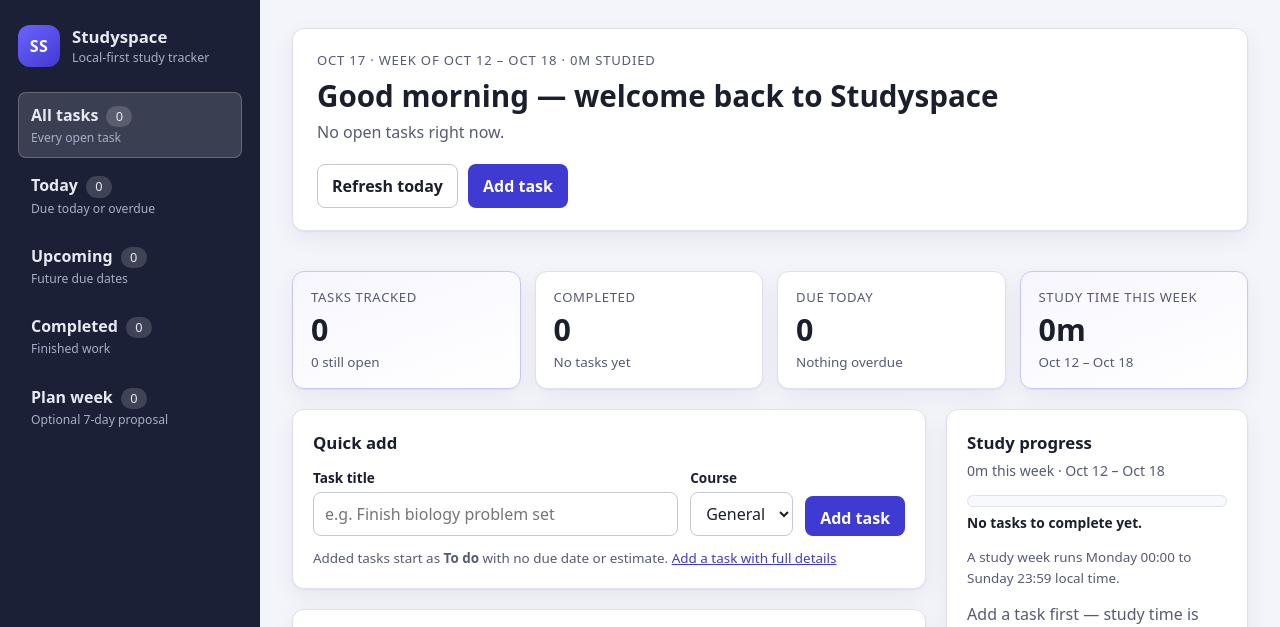
Test case: Studyspace dashboard workflows › refuses a blank title and stores nothing
Click the button "Add task" next to "No tasks to complete yet.".
click(855, 516)  # box [805, 496, 905, 536]
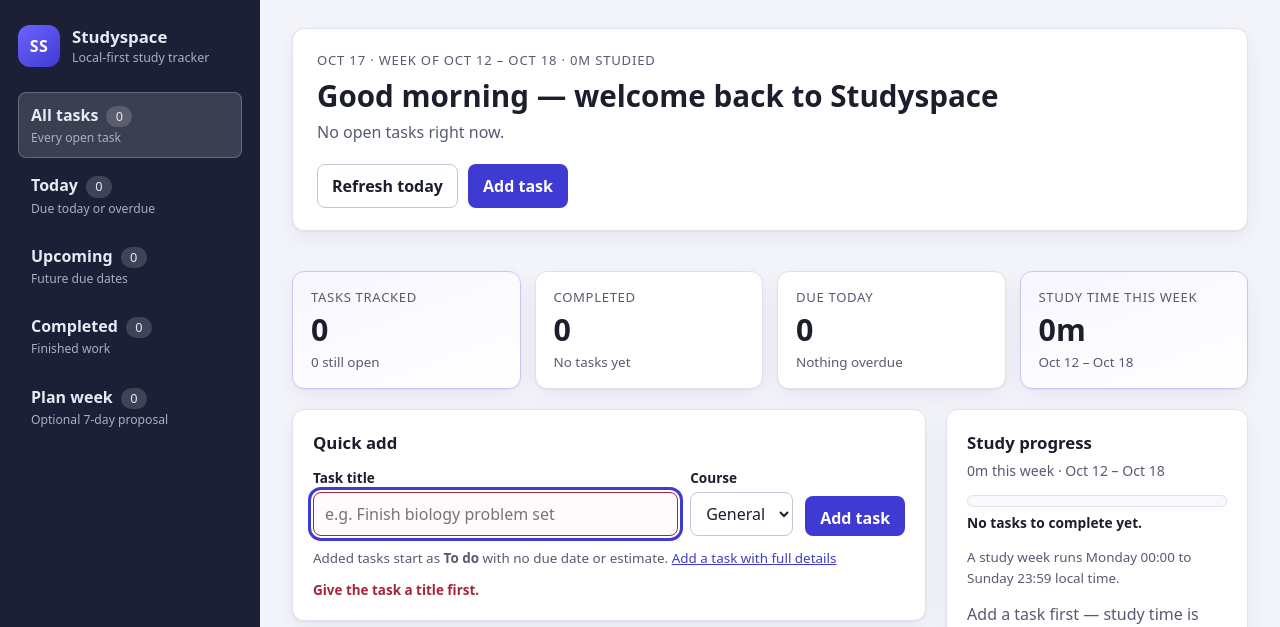
Expected: the message reads "Give the task a title first.", [313, 581, 479, 599]
